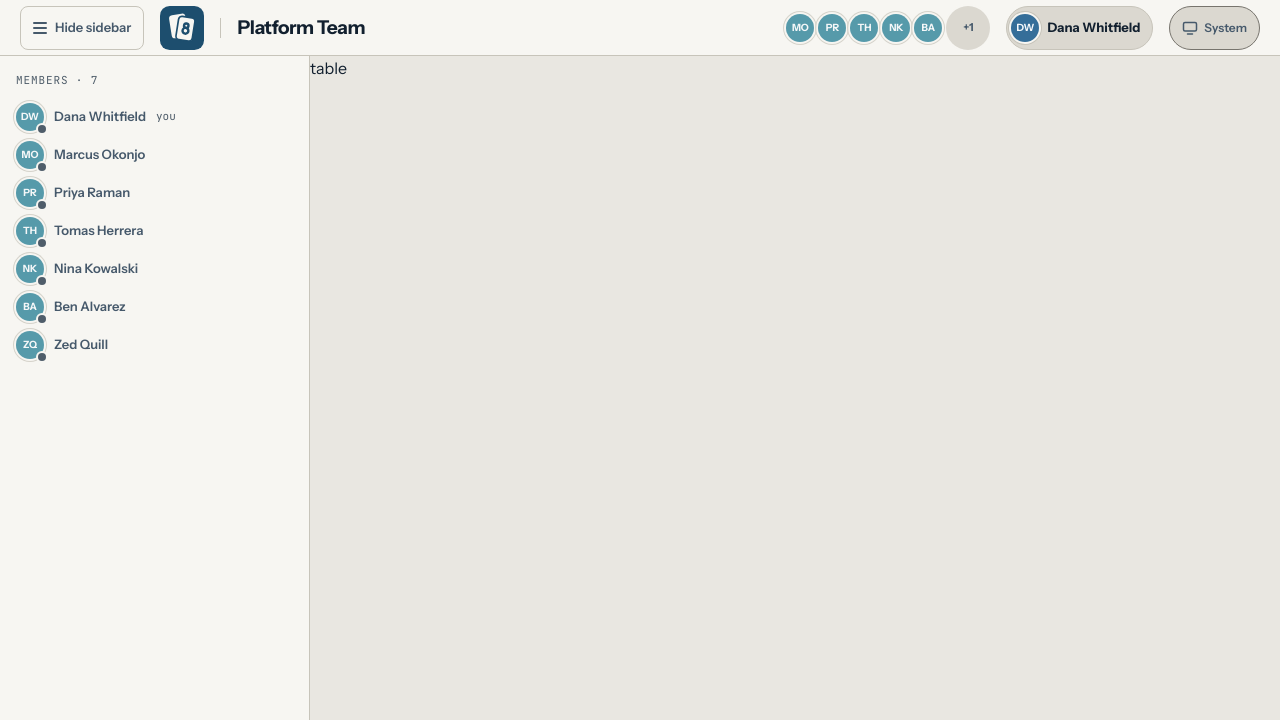
it: what the sidebar admits it is hiding › makes the overflow badge open the roster it is counting
The width and height of the screenshot is (1280, 720).
Click the button named "Show all 7 members" at (968,28), box [946,6,990,50]
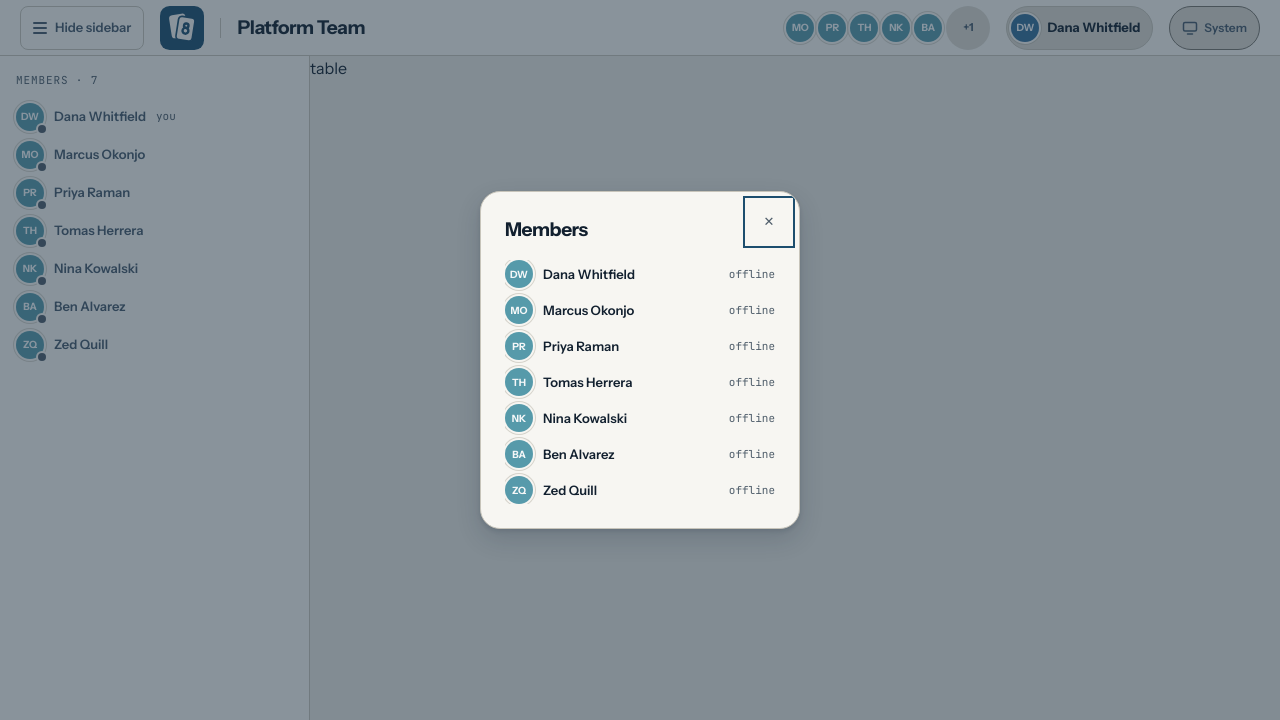
Now the dialog "Members" is shown, box [480,191,800,529]
